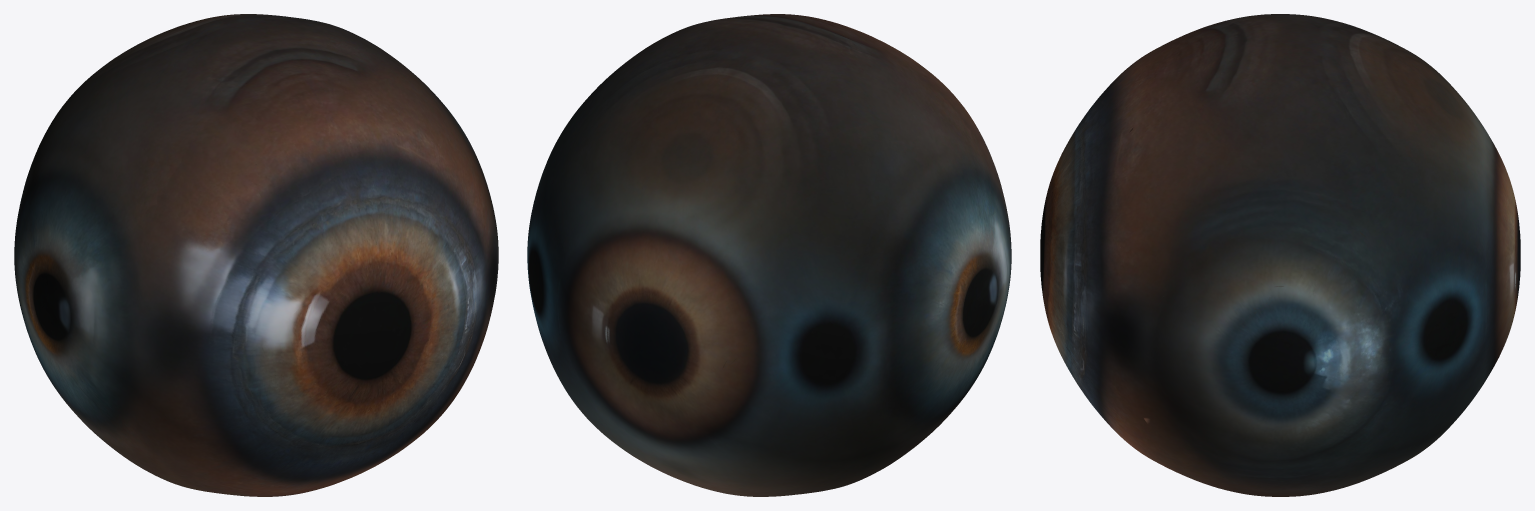
The model's file is refined_human eyes.glb.
3 views of the same model, side by side, from view 1: azimuth 30°, elevation 25°; view 2: azimuth 150°, elevation 25°; view 3: azimuth 270°, elevation 25° (orthographic).
Bounding box in the file's own units: 2 × 2 × 2.
Materials: 1 (1 with a texture image).
